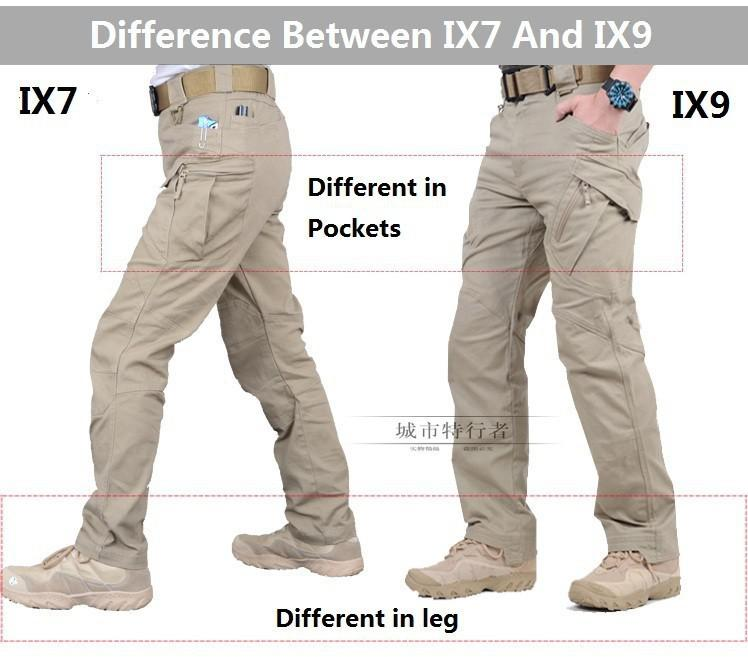pants: (83, 68, 360, 544), (462, 91, 676, 575)
